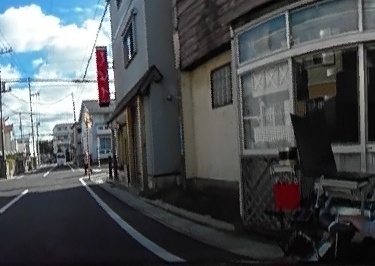person: (346, 41, 375, 266)
